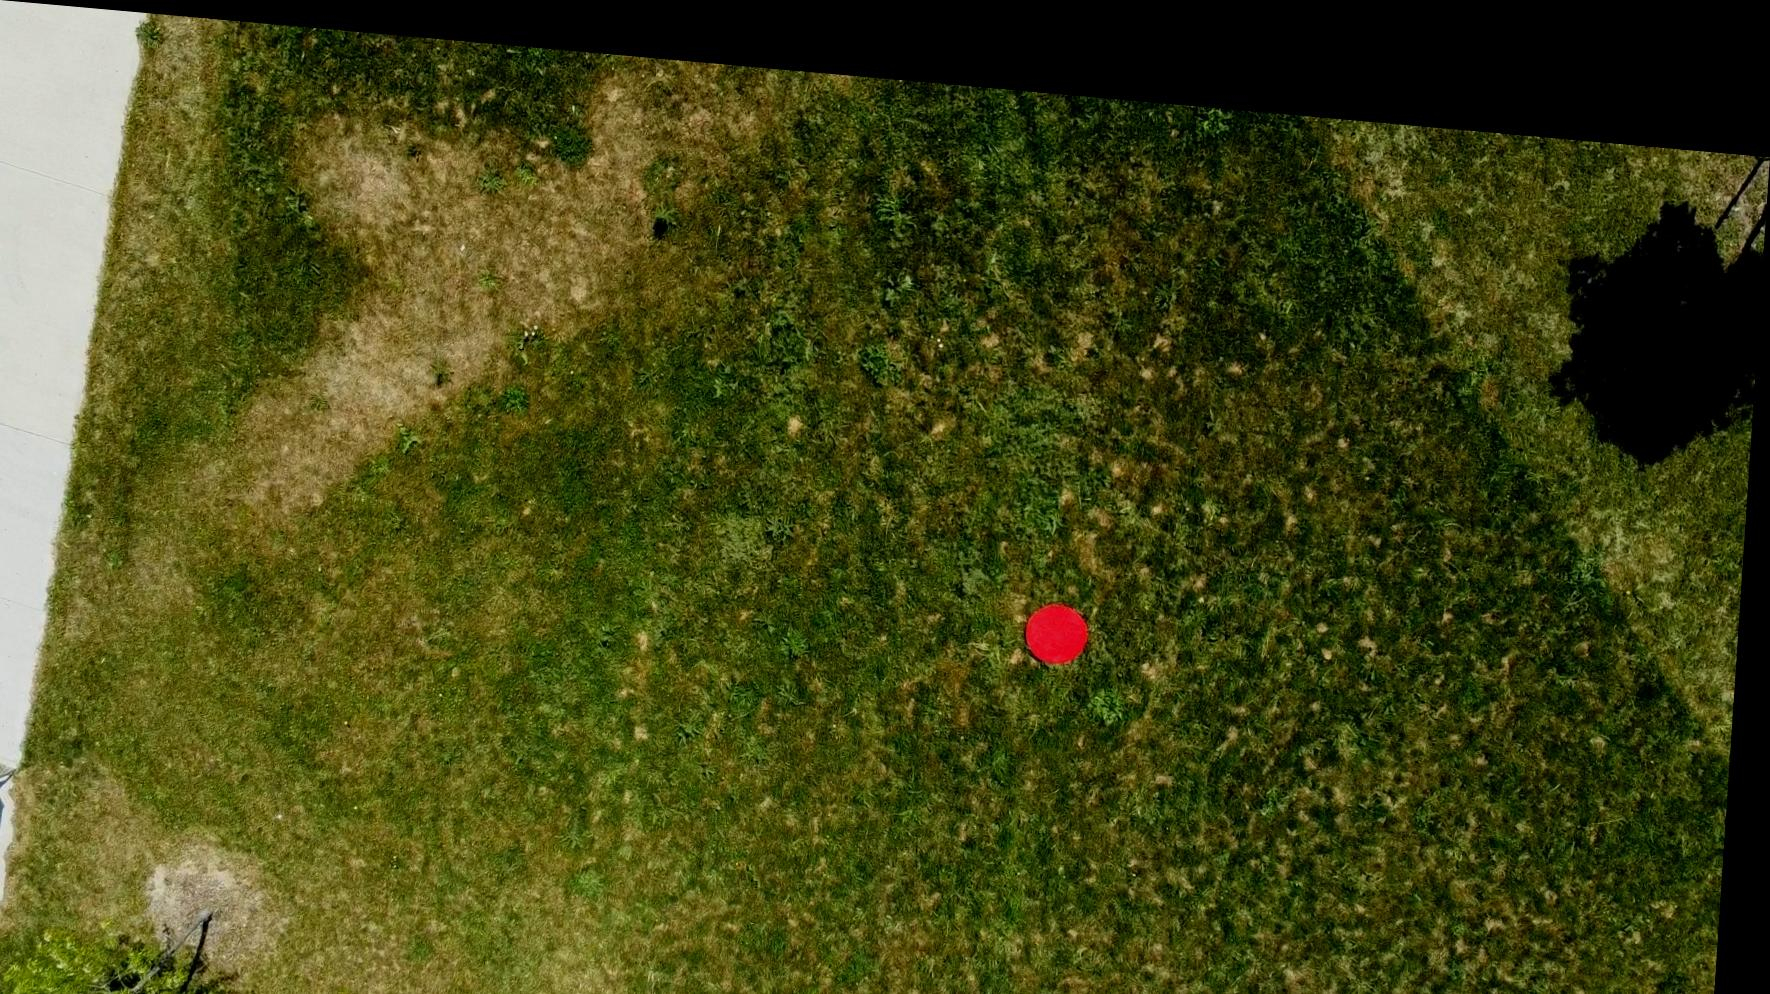Red: (1028, 578, 1100, 648)
